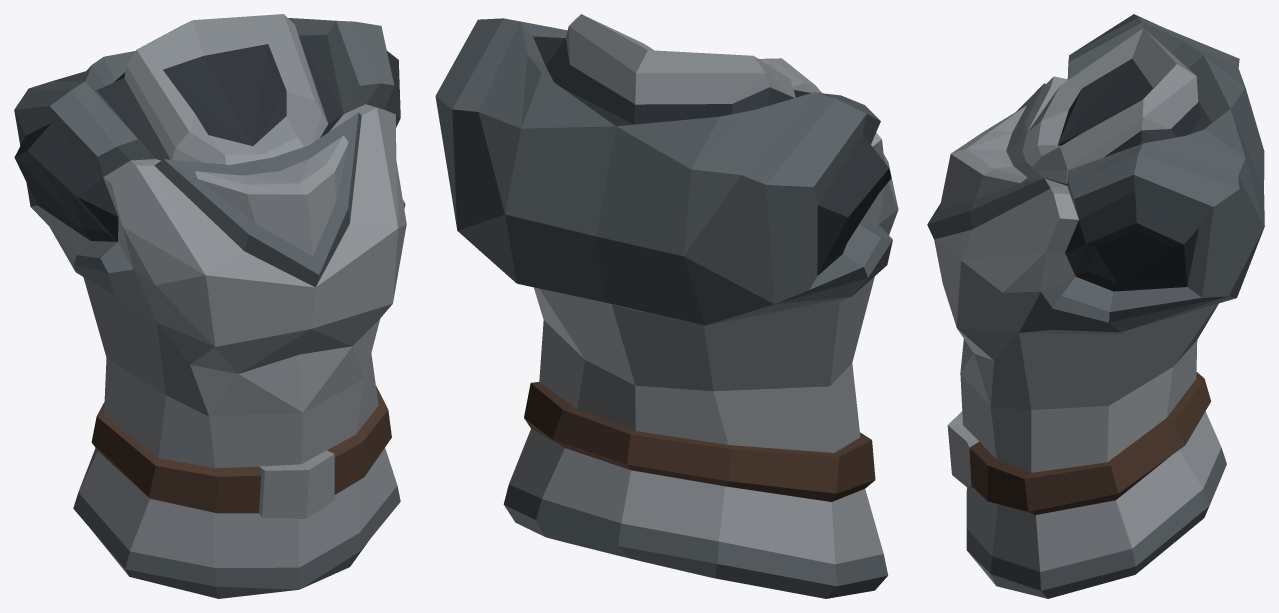
Rendered from Chr_Torso_Female_24_Static.fbx.
3 renders of one model, left to right at view 1: azimuth 30°, elevation 25°; view 2: azimuth 150°, elevation 25°; view 3: azimuth 270°, elevation 25°, orthographic. The views are drawn at different scales.
Visible parts, largest first — view 1: Chr_Torso_Female_24_Static; view 2: Chr_Torso_Female_24_Static; view 3: Chr_Torso_Female_24_Static.
Boxes of the visible parts, box(x1,y1,x2,y2) form: Chr_Torso_Female_24_Static: box(14, 14, 406, 598); Chr_Torso_Female_24_Static: box(435, 14, 898, 598); Chr_Torso_Female_24_Static: box(927, 14, 1264, 598).
Bounding box in the file's own units: 0.5172 × 0.6689 × 0.412.
